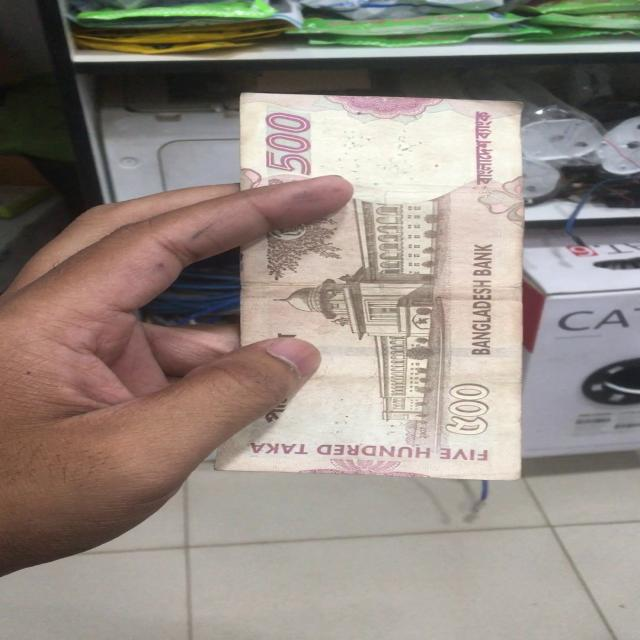Taka: (236, 90, 524, 478)
